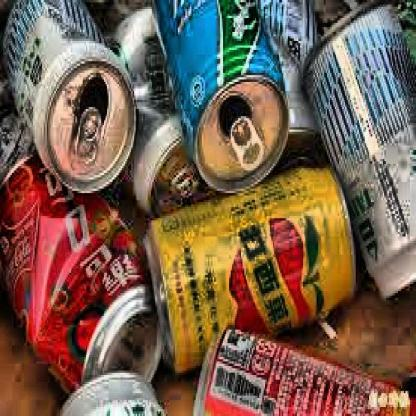Can: (141, 154, 358, 374), (302, 0, 416, 304), (0, 195, 162, 386), (0, 0, 140, 200), (148, 0, 288, 188)
